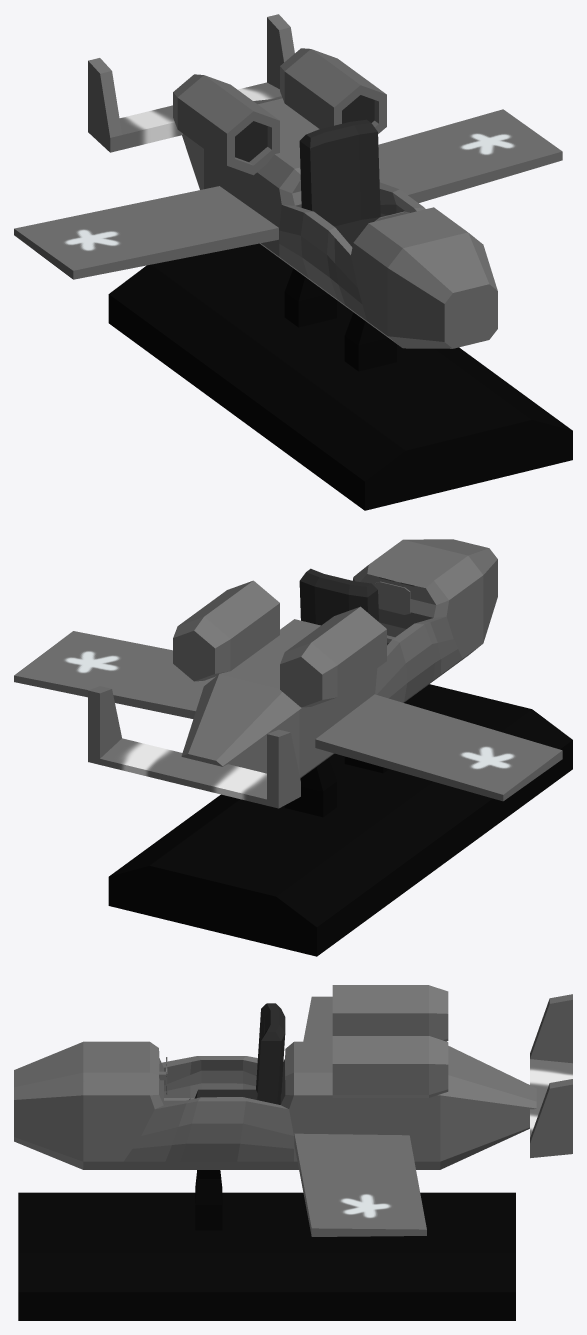
Rendered from MiniA10.fbx.
3 views of the same model, one above another, from view 1: azimuth 30°, elevation 25°; view 2: azimuth 150°, elevation 25°; view 3: azimuth 270°, elevation 25° (orthographic). The views are drawn at different scales.
Parts seen in each view (by area): view 1: PlaneCore, Cube.006, Cube, Cube.005; view 2: PlaneCore, Cube.006, Cube.005; view 3: PlaneCore, Cube.006, Cube.
Part boxes in pixels (x1,y1,x2,y2): PlaneCore: (14,14,562,348); Cube.006: (108,243,572,510); Cube: (344,312,396,371); Cube.005: (284,268,336,327); PlaneCore: (14,539,562,808); Cube.006: (108,684,572,956); Cube.005: (284,758,336,817); PlaneCore: (14,985,572,1236); Cube.006: (18,1192,515,1320); Cube: (195,1170,222,1230).
Bounding box in the file's own units: 1022 × 537 × 1041.
1 material, 1 textured.
